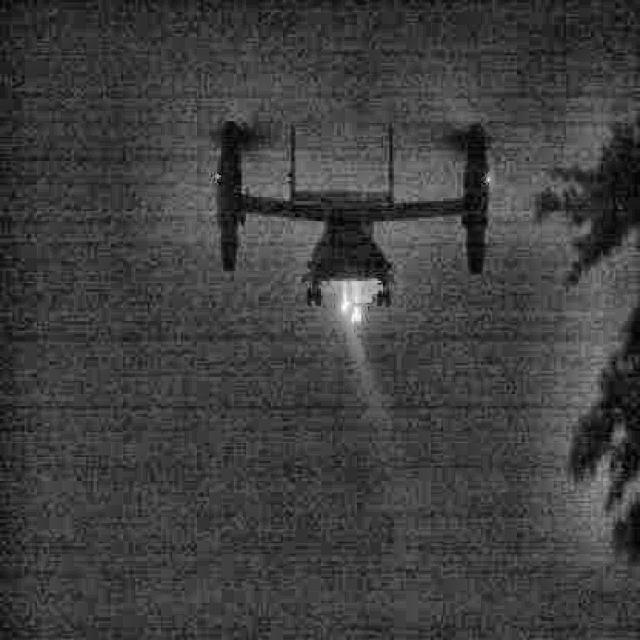V22: (168, 117, 540, 326)
